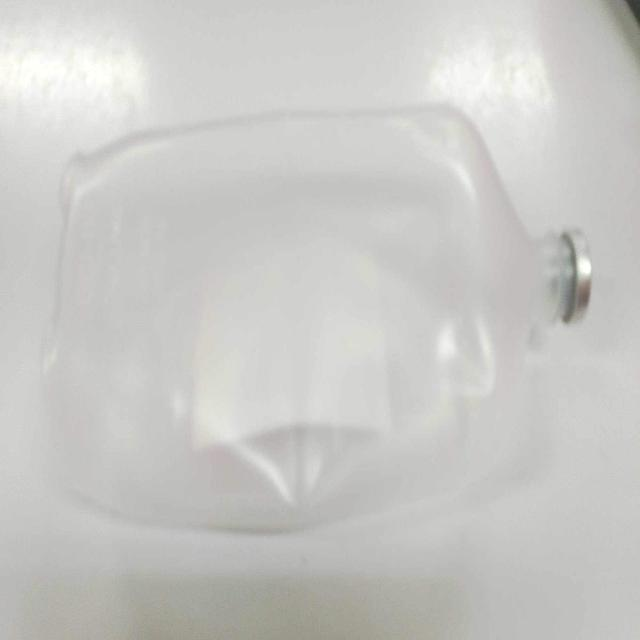Sharps: (41, 100, 593, 534)
